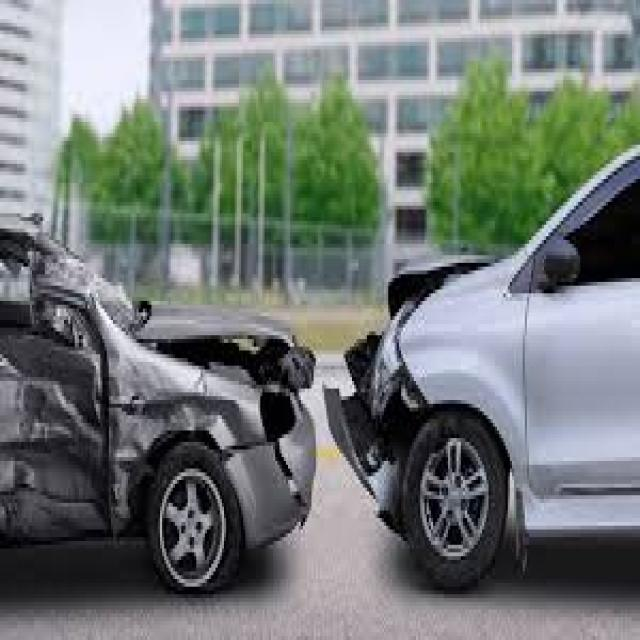car-moderate-accident: (18, 154, 640, 623)
